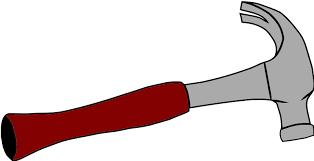hammer: (0, 0, 312, 160)
